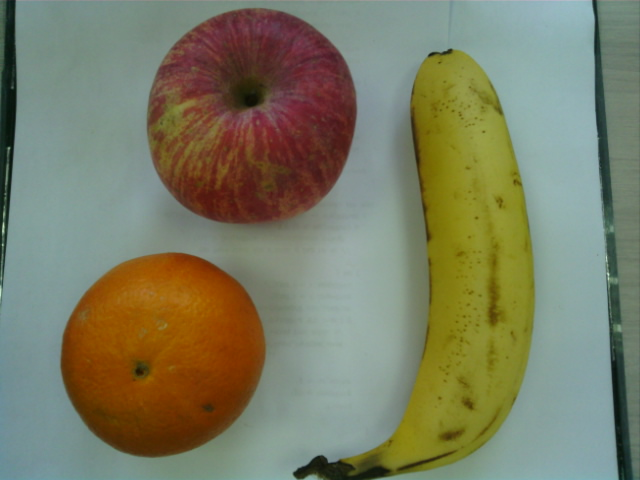normal_apple: (148, 8, 357, 224)
normal_banana: (370, 48, 539, 480)
normal_orange: (62, 253, 264, 457)
